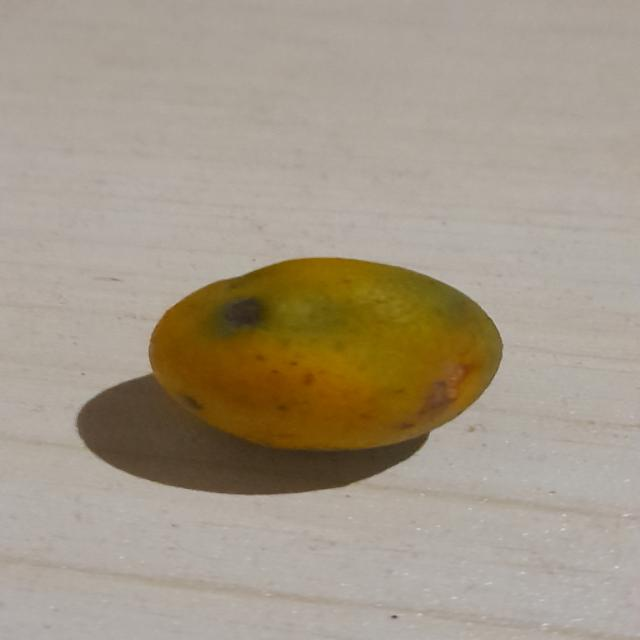black spot: (148, 250, 514, 454)
